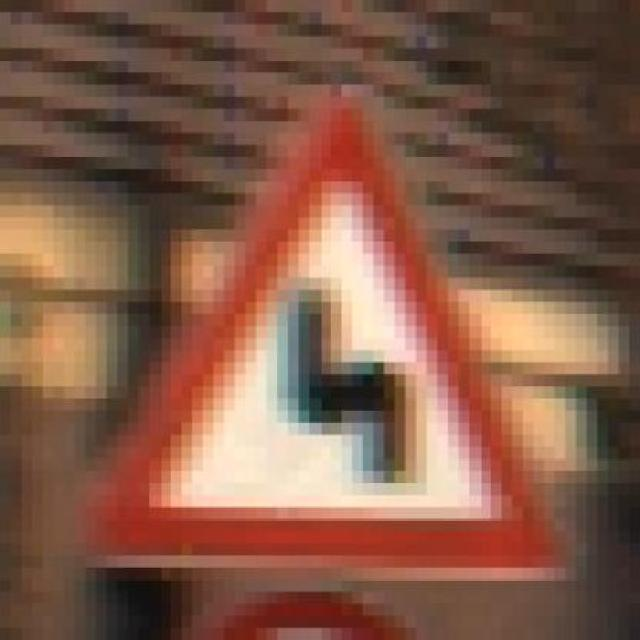Left Zig Zag Traffic: (107, 84, 555, 604)
